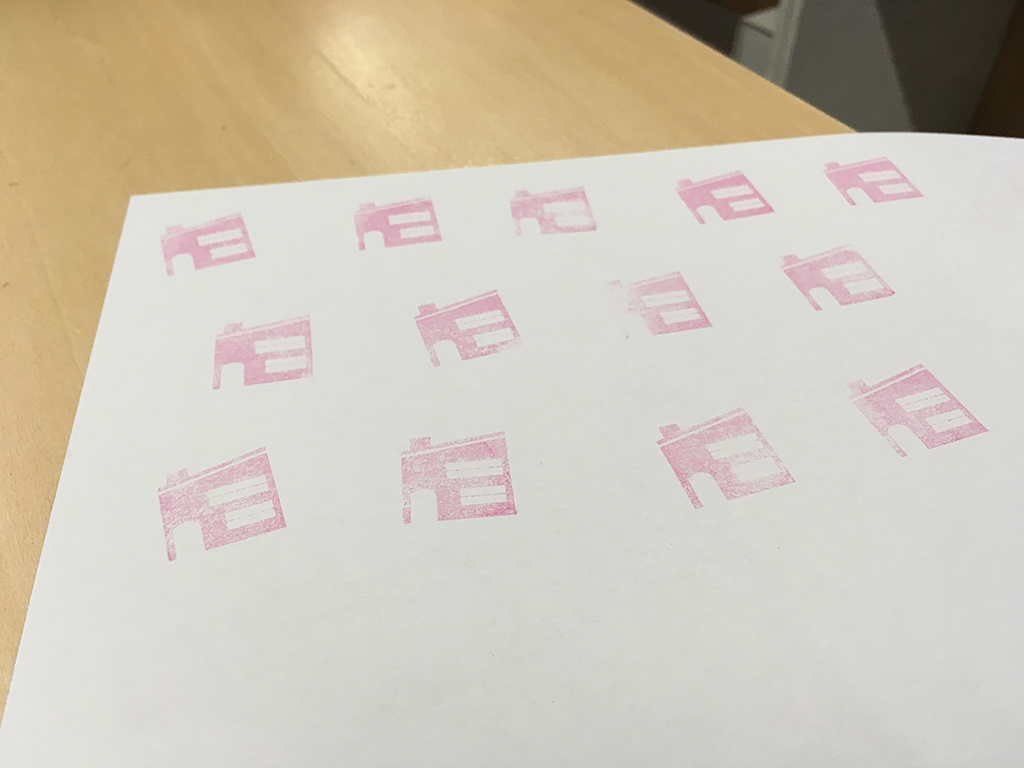house: (140, 435, 293, 570), (833, 352, 997, 468), (648, 399, 807, 514), (390, 412, 524, 540), (404, 278, 543, 370), (593, 263, 724, 349), (773, 235, 906, 318), (206, 306, 323, 394), (147, 206, 263, 284), (346, 185, 450, 262), (502, 179, 607, 247), (816, 149, 930, 211), (668, 165, 780, 228)
